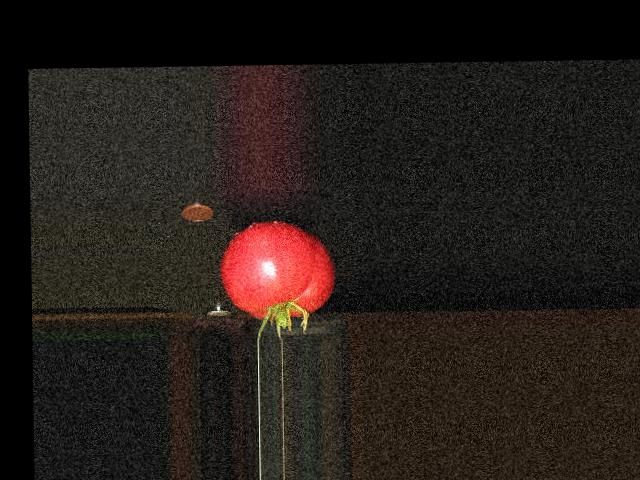tomato: (220, 219, 336, 319)
